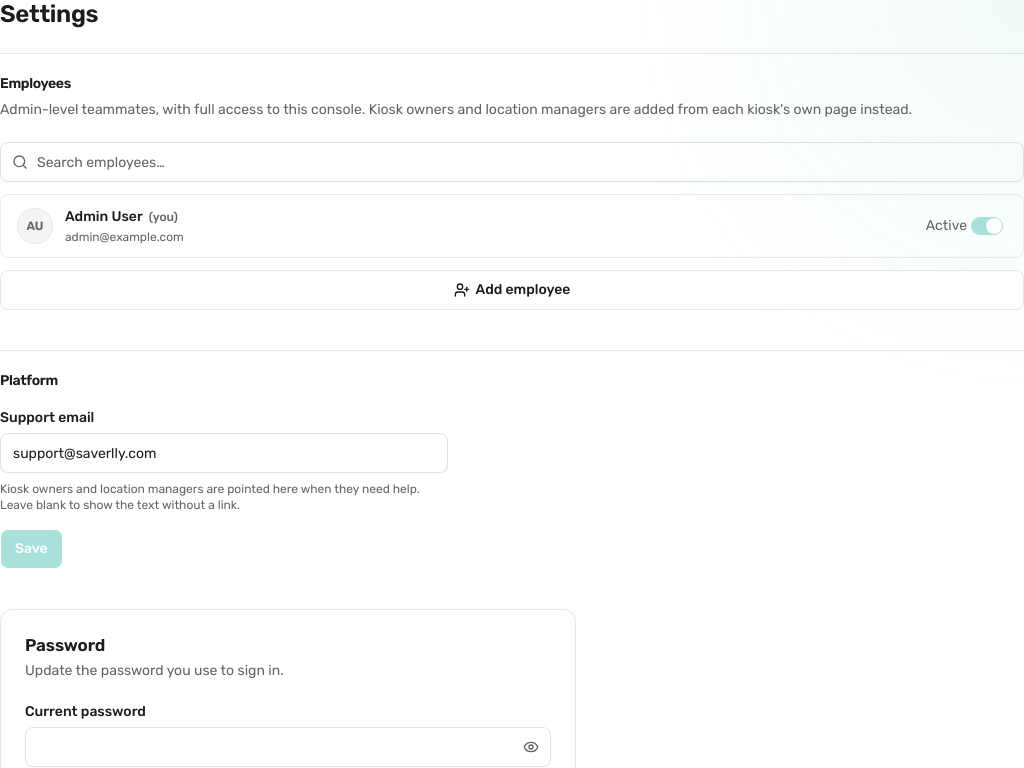
Test: AdminSettingsPage › lists existing employees and opens the Add employee dialog
Expected: the text "(you)" is shown, [149,210,178,224]
Click the button "Add employee": (512, 290) [0,270,1023,310]
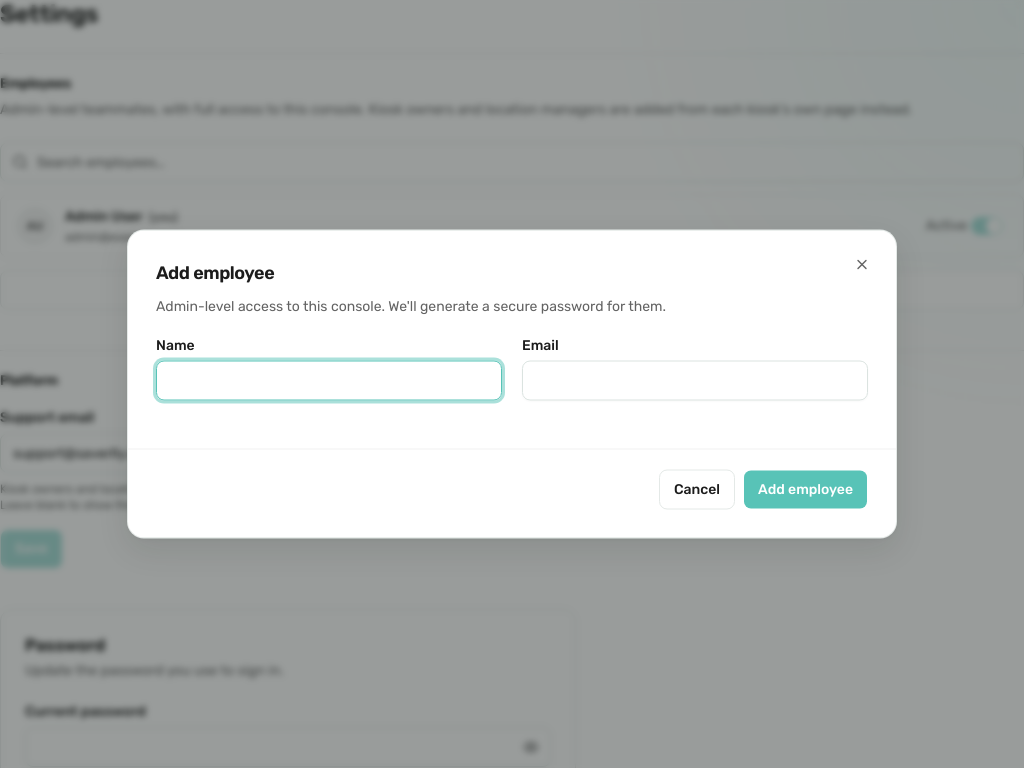
Now the dialog "Add employee" is shown, box [128,230,896,538]
